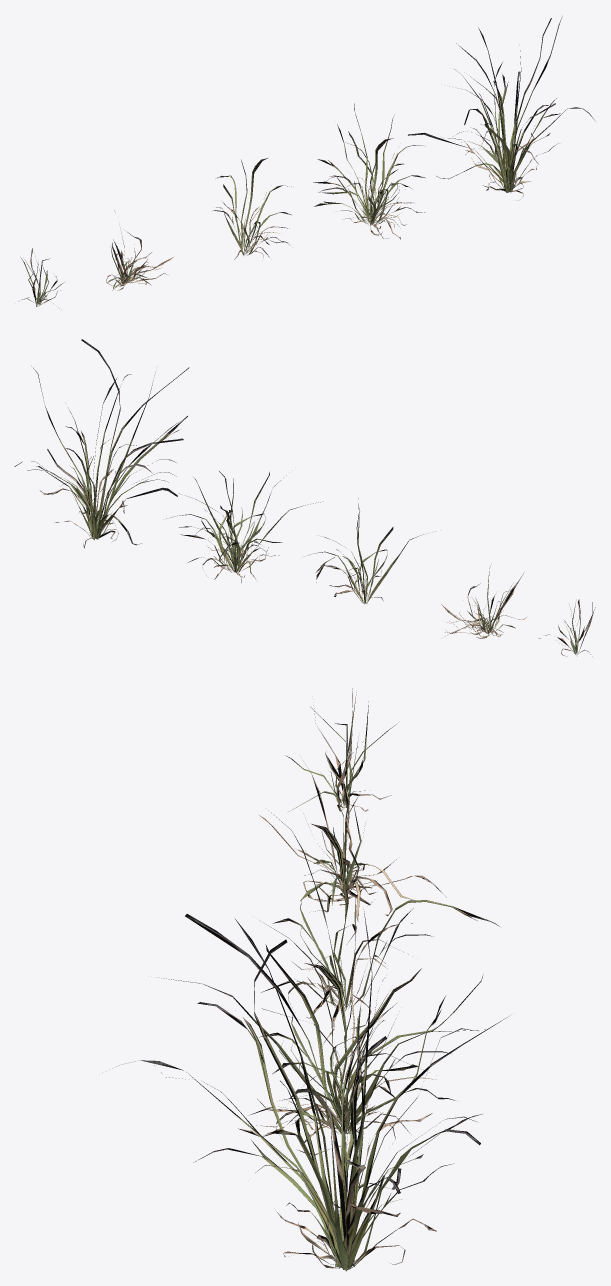
File: grass_medium_02.glb
The picture shows the model from 3 angles, top to bottom: view 1: azimuth 30°, elevation 25°; view 2: azimuth 150°, elevation 25°; view 3: azimuth 270°, elevation 25°; orthographic projection. The views are drawn at different scales.
Visible parts, largest first — view 1: grass_medium_02_a; view 2: grass_medium_02_a; view 3: grass_medium_02_a.
Part boxes in pixels (bbox=[...]): grass_medium_02_a: bbox=[18, 16, 594, 308]; grass_medium_02_a: bbox=[14, 339, 595, 656]; grass_medium_02_a: bbox=[116, 688, 508, 1271].
Bounding box in the file's own units: 1.3 × 0.4053 × 0.4318.
Materials: 1 (1 with a texture image).
